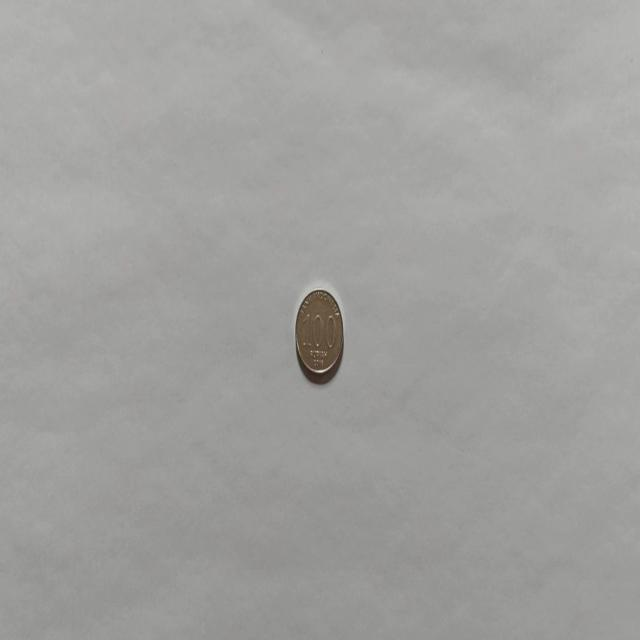seratus rupiah: (294, 286, 344, 381)
